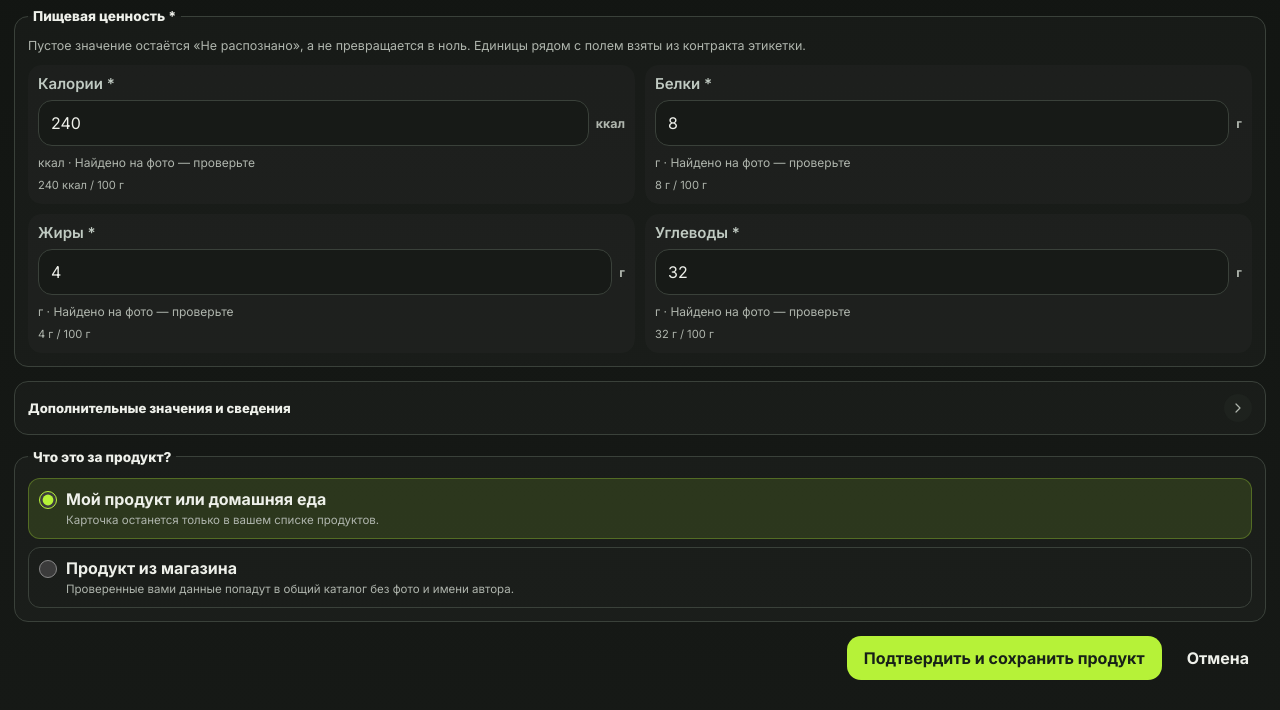
it: NutritionLabelReview › shows a derived nutrient separately from the editable source value
This screenshot has width=1280, height=710.
(page scrolled)
Click the heading "Дополнительные значения и сведения".
click(159, 408)  # box [28,394,1252,422]
(page scrolled)
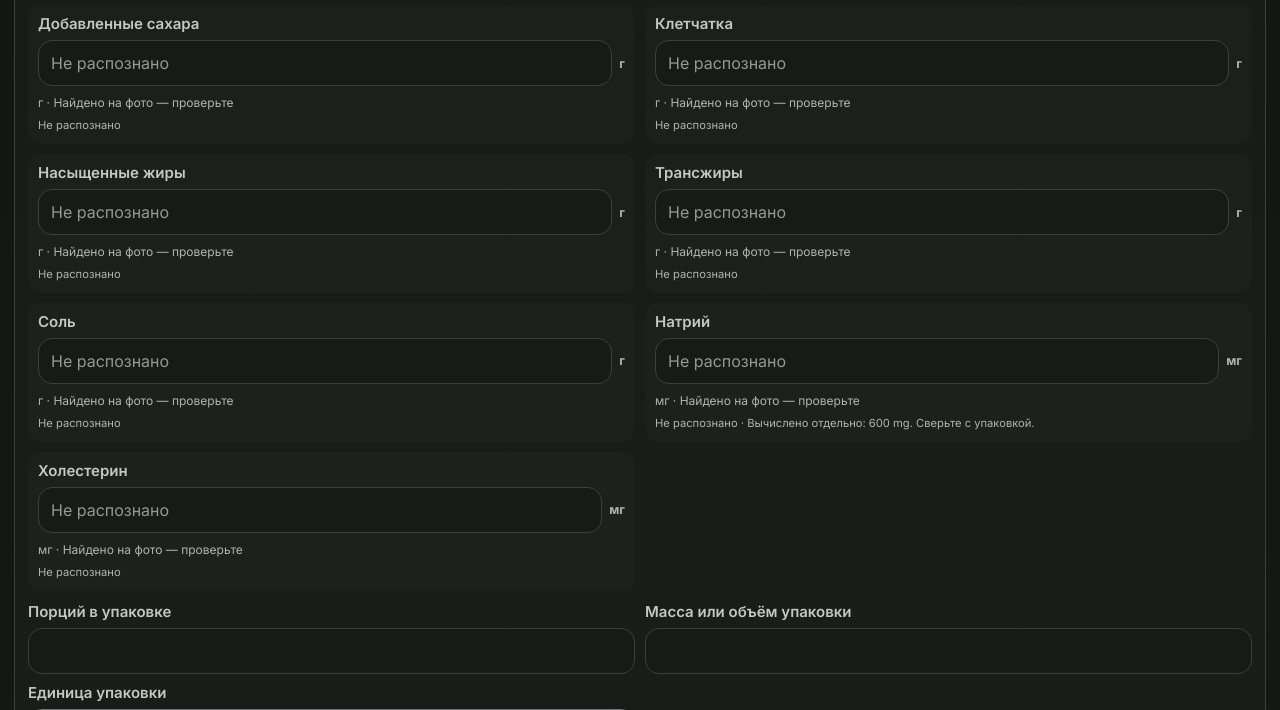
Expected: the text "Вычислено отдельно: 600 mg" is shown, [747,416,1035,430]
Expected: the field labelled "Натрий" is empty, [655,338,1219,384]
